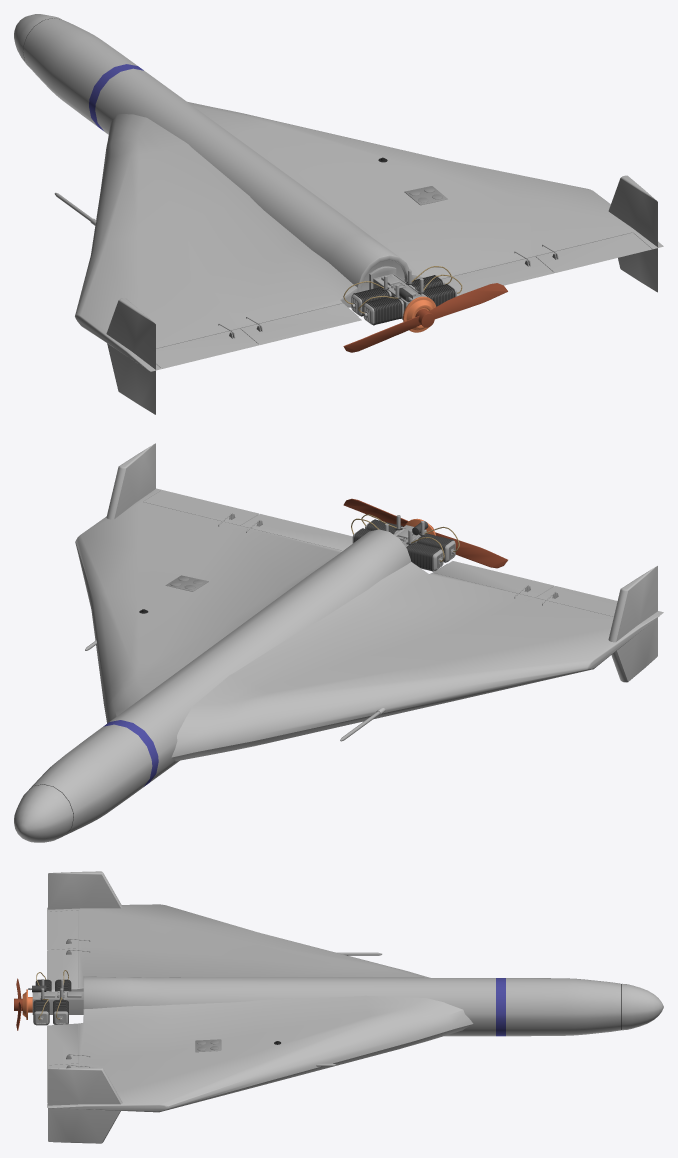
Rendered from d_shahed.glb.
3 views of the same model, one above another, from view 1: azimuth 30°, elevation 25°; view 2: azimuth 150°, elevation 25°; view 3: azimuth 270°, elevation 25° (orthographic). The views are drawn at different scales.
Parts seen in each view (by area): view 1: body|Main, prop|Kayu, prop|Dark_Steel.001, body|Mesin_Silver.002, body|Dark_Steel.001, body|Abu_abu, body|Main.Biru; view 2: body|Main, prop|Kayu, prop|Dark_Steel.001, body|Dark_Steel.001, body|Main.Biru; view 3: body|Main, body|Mesin_Silver.002, body|Main.Biru, prop|Dark_Steel.001, body|Abu_abu.
Boxes of the visible parts, x1=… form: body|Main: x1=14, y1=14, x2=663, y2=414; prop|Kayu: x1=343, y1=283, x2=507, y2=352; prop|Dark_Steel.001: x1=365, y1=284, x2=455, y2=325; body|Mesin_Silver.002: x1=351, y1=266, x2=444, y2=319; body|Dark_Steel.001: x1=353, y1=275, x2=443, y2=316; body|Abu_abu: x1=229, y1=186, x2=558, y2=338; body|Main.Biru: x1=89, y1=64, x2=143, y2=130; body|Main: x1=14, y1=443, x2=663, y2=842; prop|Kayu: x1=343, y1=498, x2=507, y2=568; prop|Dark_Steel.001: x1=366, y1=519, x2=453, y2=562; body|Dark_Steel.001: x1=354, y1=528, x2=441, y2=571; body|Main.Biru: x1=103, y1=720, x2=158, y2=787; body|Main: x1=47, y1=871, x2=663, y2=1143; body|Mesin_Silver.002: x1=32, y1=979, x2=83, y2=1024; body|Main.Biru: x1=496, y1=978, x2=505, y2=1036; prop|Dark_Steel.001: x1=32, y1=979, x2=51, y2=1025; body|Abu_abu: x1=66, y1=939, x2=221, y2=1068.
Size of the model in its own units: 2.55 by 0.4402 by 3.49.
